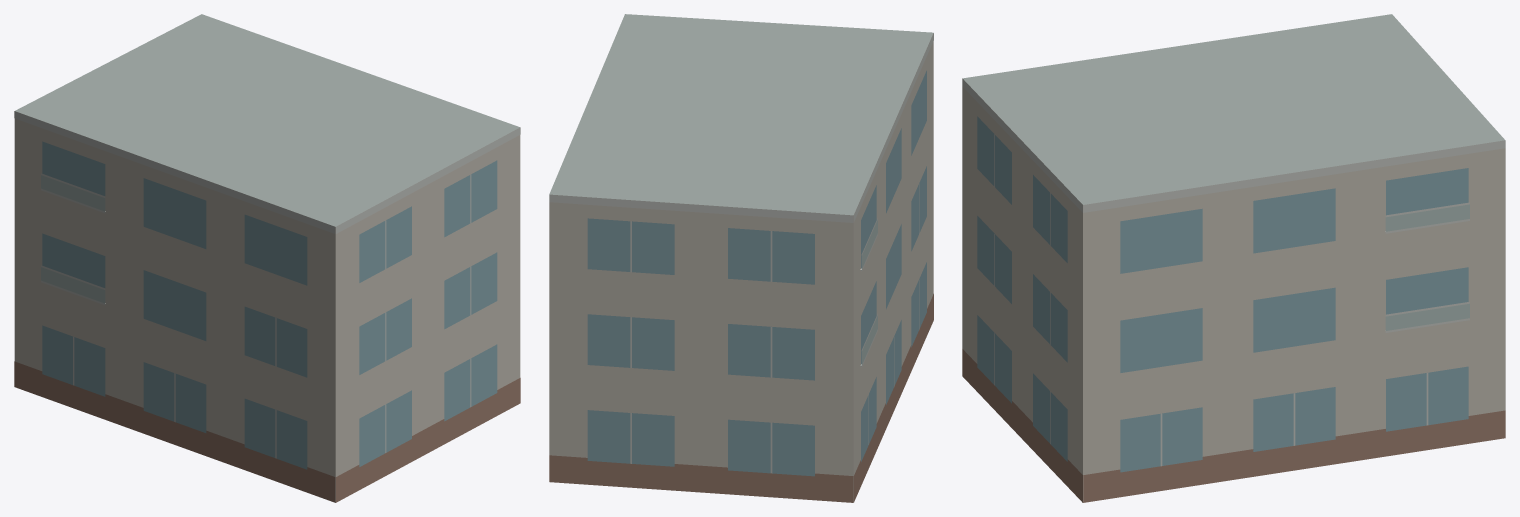
File: survey-upis-32765403.glb
3 renders of one model, left to right at view 1: azimuth 30°, elevation 25°; view 2: azimuth 150°, elevation 25°; view 3: azimuth 270°, elevation 25°, orthographic. The views are drawn at different scales.
Parts seen in each view (by area): view 1: survey-upis-32765403.tmp; view 2: survey-upis-32765403.tmp; view 3: survey-upis-32765403.tmp.
Boxes of the visible parts, left/top/right/bottom form: survey-upis-32765403.tmp: left=14, top=14, right=520, bottom=502; survey-upis-32765403.tmp: left=549, top=14, right=933, bottom=502; survey-upis-32765403.tmp: left=962, top=14, right=1505, bottom=502.
Bounding box in the file's own units: 12.59 × 9.15 × 15.13.
